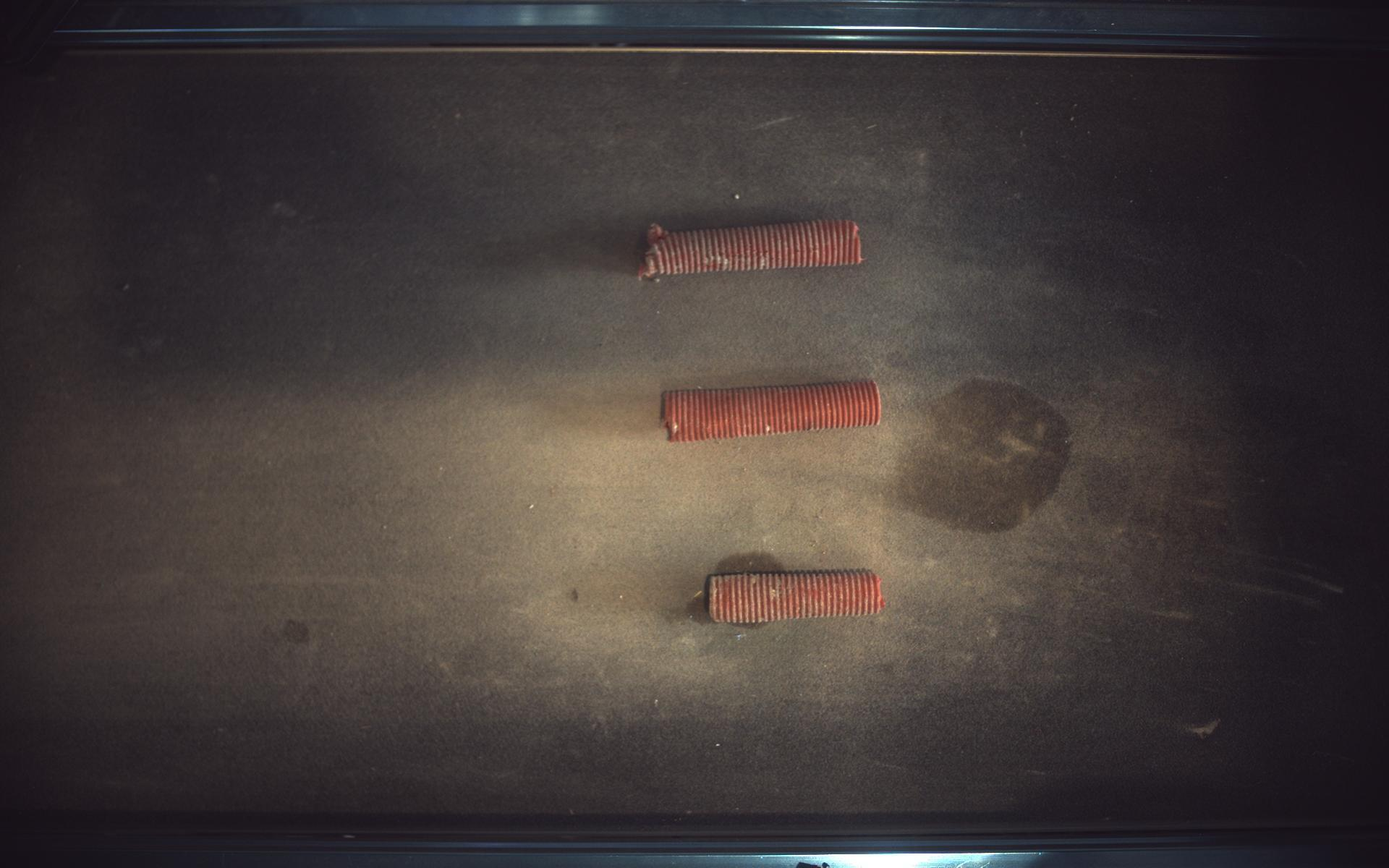pipes: (664, 380, 883, 442), (639, 219, 864, 278), (710, 571, 886, 624)
